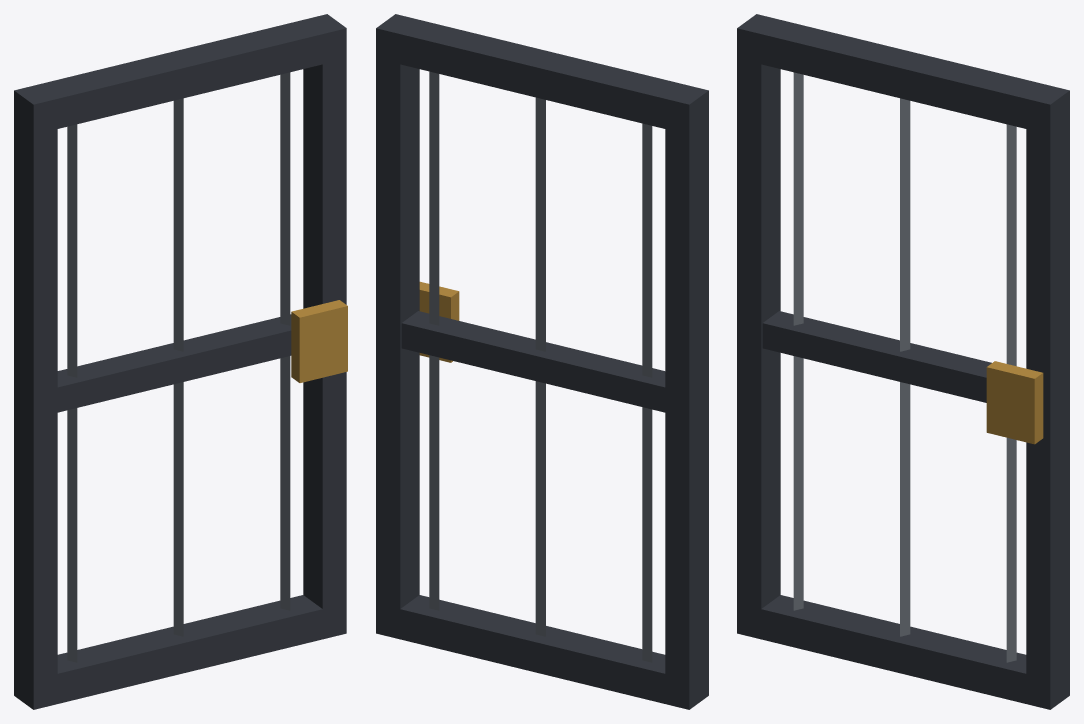
File: SM_Prop_CellDoor_LQ.glb
3 views of the same model, side by side, from view 1: azimuth 30°, elevation 25°; view 2: azimuth 150°, elevation 25°; view 3: azimuth 330°, elevation 25° (orthographic).
Parts seen in each view (by area): view 1: SM_Prop_CellDoor_LQ; view 2: SM_Prop_CellDoor_LQ; view 3: SM_Prop_CellDoor_LQ.
Part boxes in pixels (<box>): SM_Prop_CellDoor_LQ: <box>14,14,347,709</box>; SM_Prop_CellDoor_LQ: <box>376,14,708,709</box>; SM_Prop_CellDoor_LQ: <box>737,14,1069,709</box>.
Size of the model in its own units: 1.3 by 2.4 by 0.2.
1 material, 1 textured.
